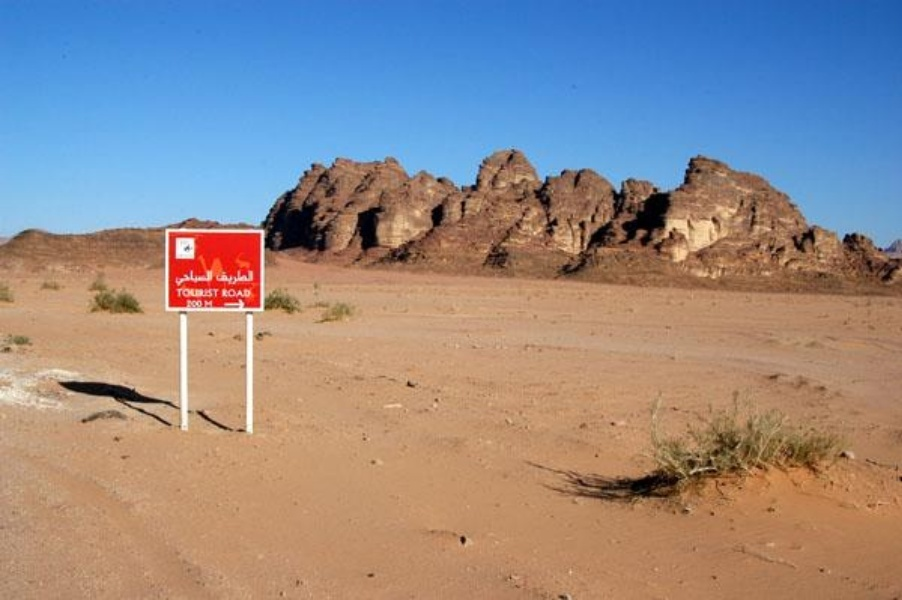text: (177, 288, 192, 310), (193, 288, 208, 310), (209, 288, 224, 310), (225, 288, 240, 310), (225, 268, 240, 286), (177, 270, 192, 288), (193, 270, 208, 288), (241, 288, 253, 310), (241, 268, 255, 286), (215, 268, 224, 286), (209, 270, 214, 288), (175, 288, 176, 310), (175, 270, 176, 288)
